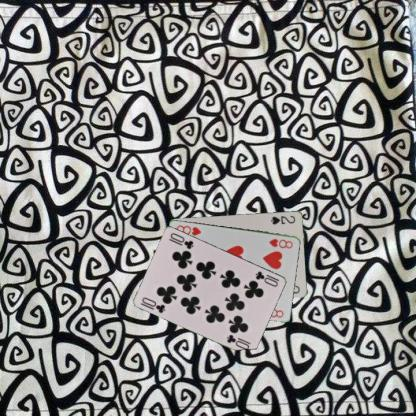10c: (138, 295, 167, 314), (253, 268, 279, 288)
2s: (268, 214, 296, 225)
8h: (266, 235, 294, 250)
